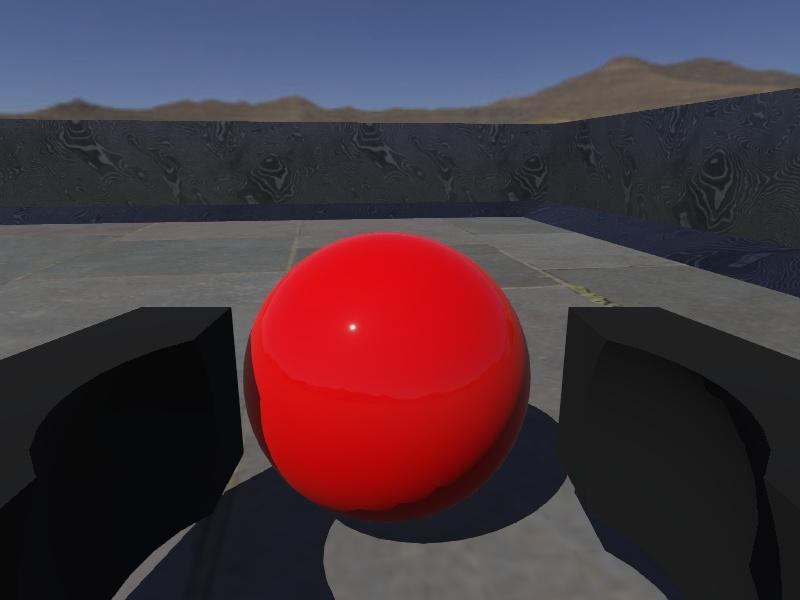red ball: (242, 231, 532, 524)
